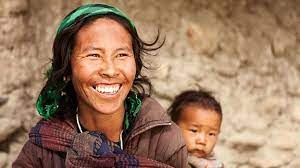person: (59, 3, 142, 117)
